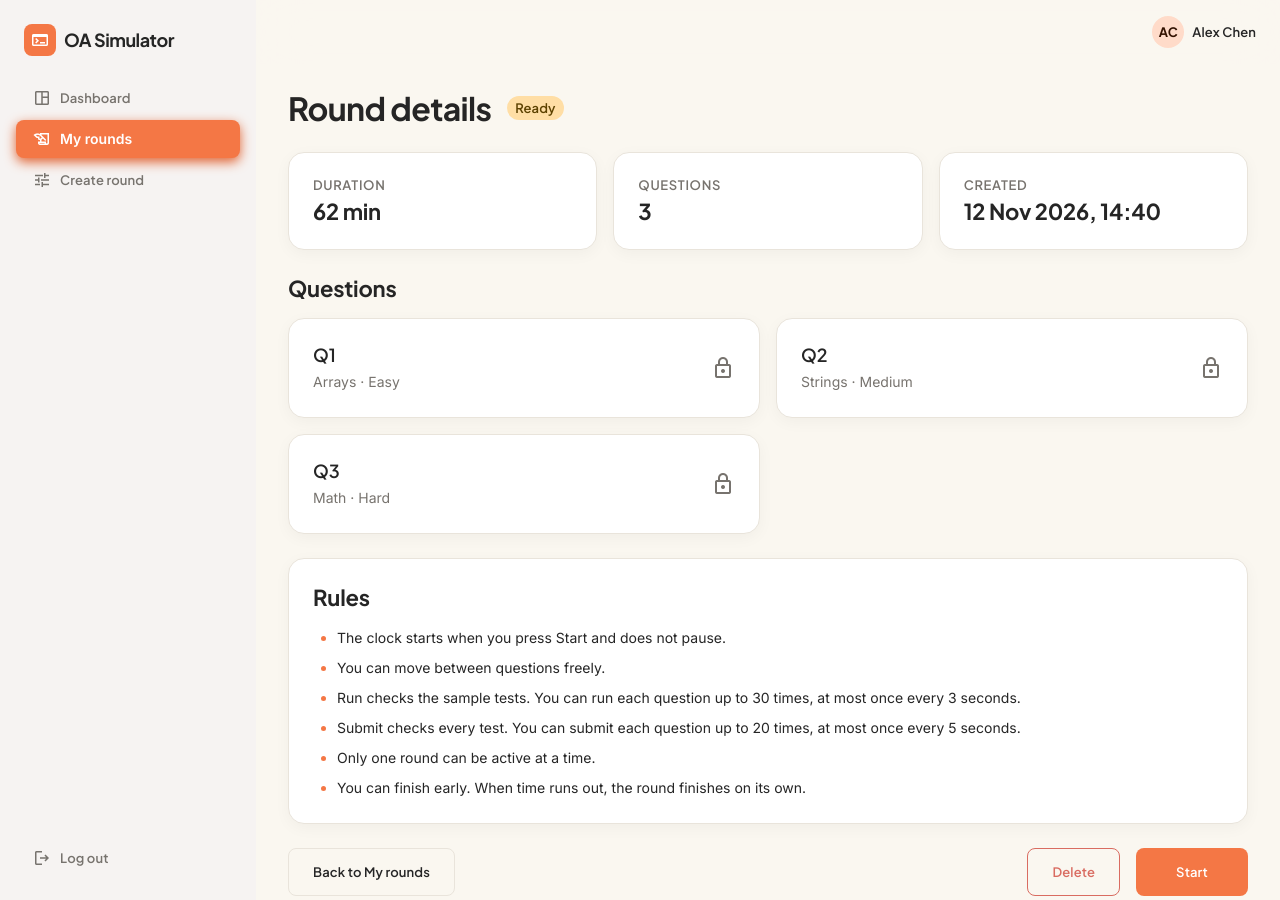
Test: S7 Start › disables Start while the request is pending, so a double click sends one request
Later steps or results of the test are not shown.
Step 1. Click the button "Start" → (1192, 872), box [1136,848,1248,896]
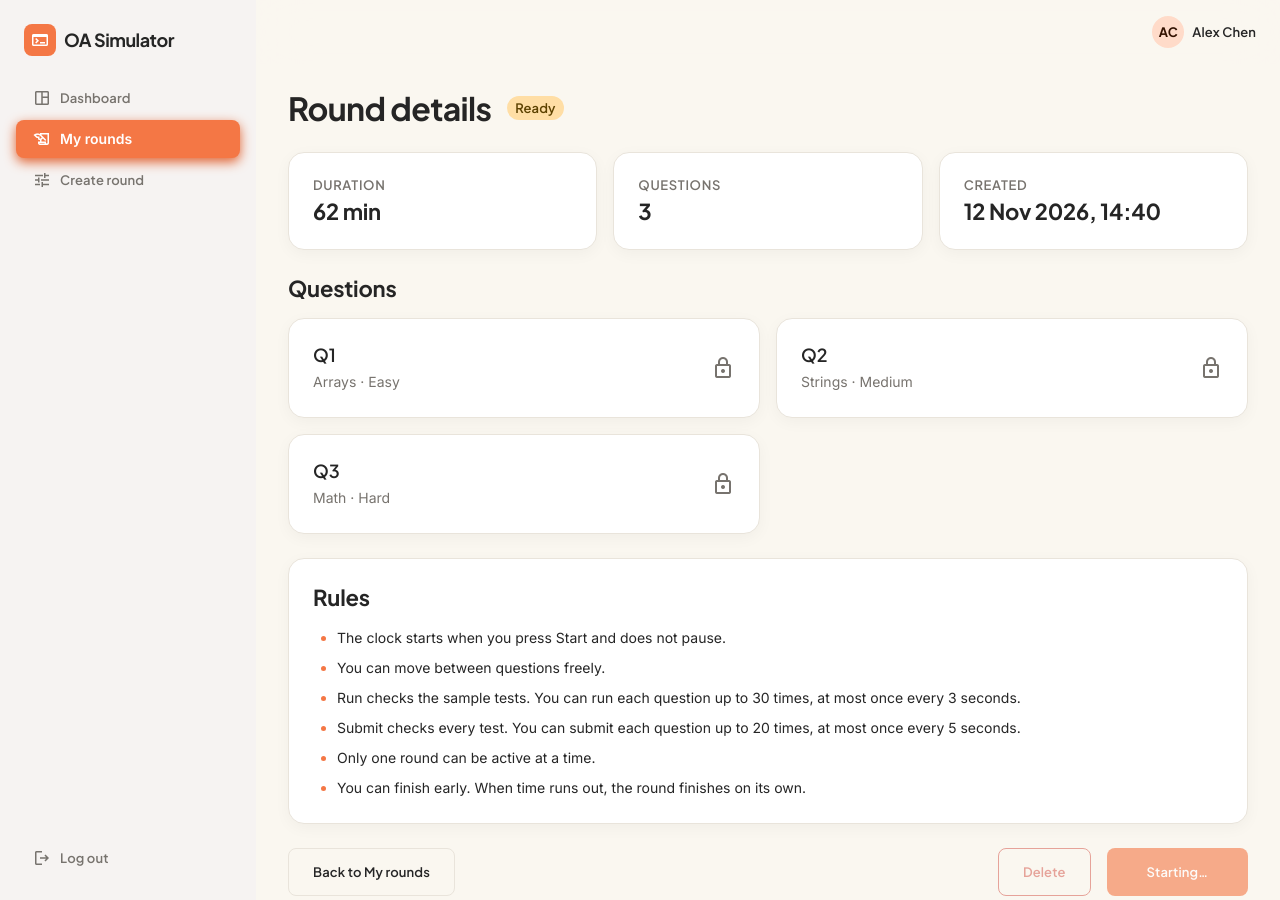
Result: the button "Starting…" is disabled at [1107,848,1248,896]
